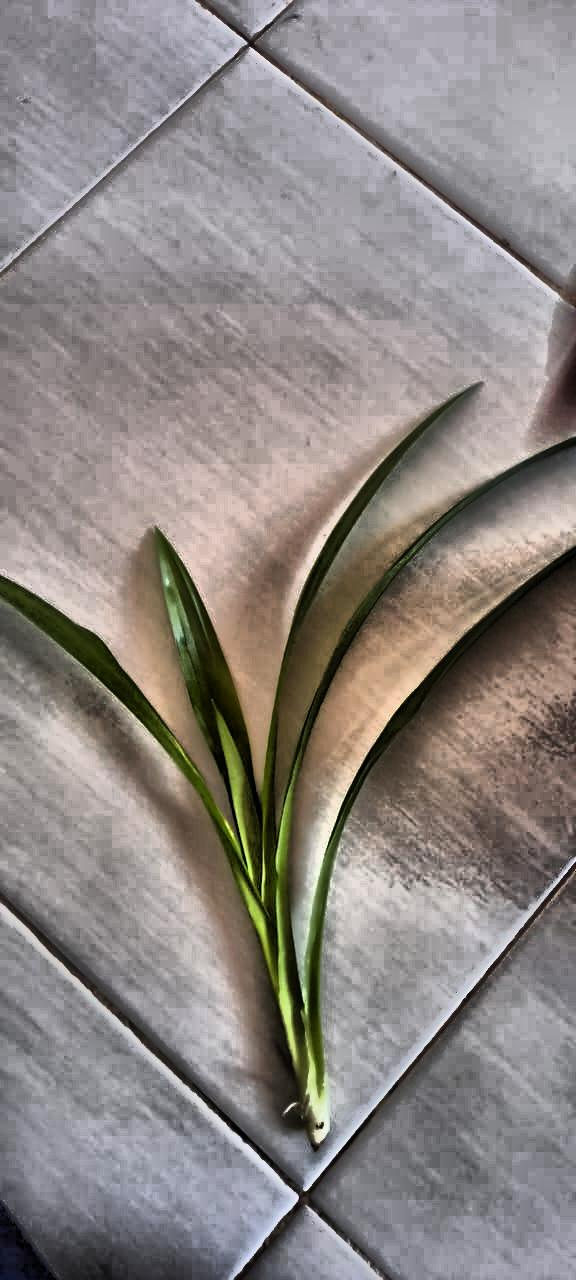daun pandan: (0, 388, 575, 1149)
